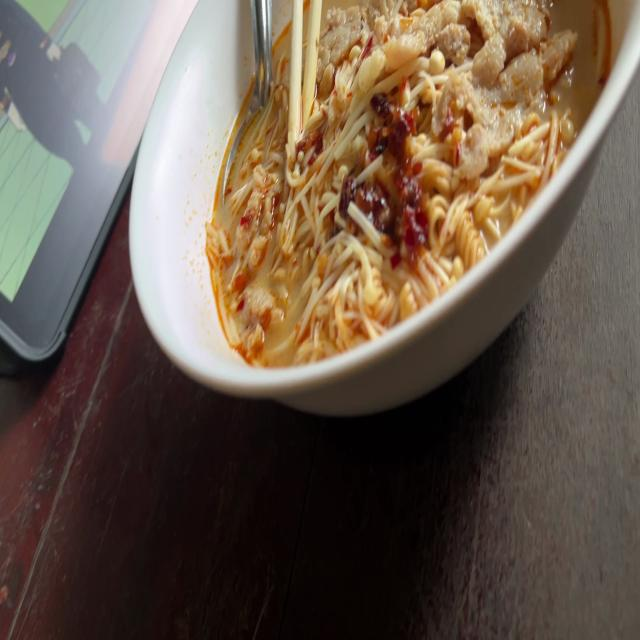noodle: (195, 0, 640, 403)
